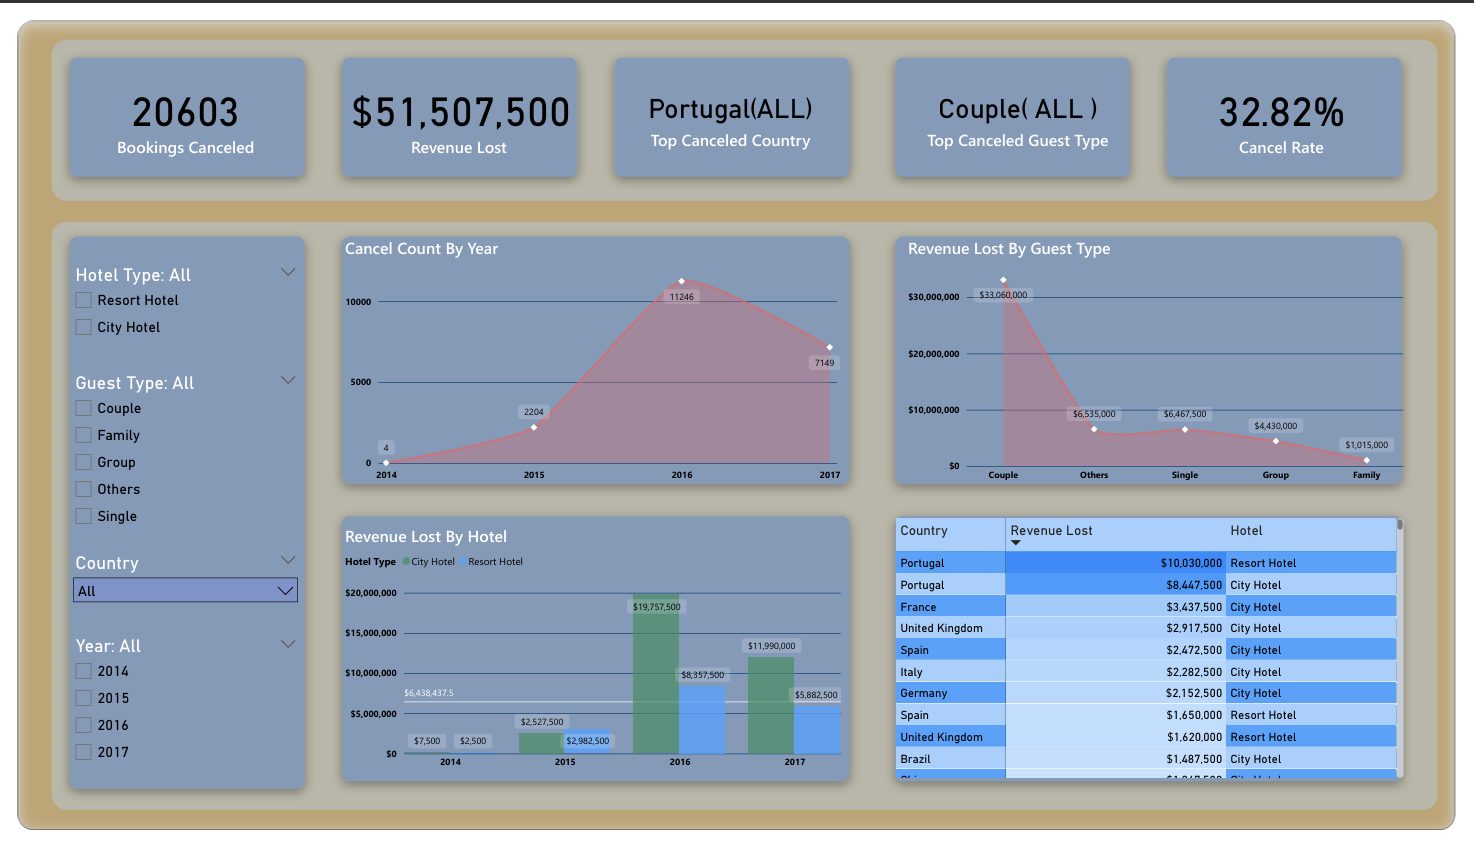

The dashboard page shown, as its layout file describes it:
{"tool":"powerbi","page":{"name":"Page 1","canvas":[1920,1080],"ordinal":0},"visuals":[{"type":"card","fields":{"Values":["public hotel_bookings.cancel_count"]},"box":[64,48,320,160],"z":0},{"type":"slicer","title":"jk","fields":{"Values":["public hotel_bookings.hotel"]},"box":[64,320,320,160],"z":1000},{"type":"slicer","fields":{"Values":["public hotel_bookings.guest_type"]},"box":[64,464,320,224],"z":2000},{"type":"slicer","fields":{"Values":["public hotel_bookings.country"]},"box":[64,704,320,96],"z":3000},{"type":"card","fields":{"Values":["public hotel_bookings.revenue_lost"]},"box":[432,48,320,160],"z":4000},{"type":"slicer","fields":{"Values":["public hotel_bookings.reservation_status_date.Variation.Date Hierarchy.Year"]},"box":[64,816,320,192],"z":5000},{"type":"card","fields":{"Values":["public hotel_bookings.top_1_cancel_guest_type"]},"box":[1184,48,304,160],"z":6000},{"type":"card","fields":{"Values":["public hotel_bookings.kpi"]},"box":[800,48,304,160],"z":7000},{"type":"card","fields":{"Values":["public hotel_bookings.Cancel Rate (%)"]},"box":[1536,48,304,160],"z":8000},{"type":"areaChart","title":"Cancel Count By Year","fields":{"Category":["public hotel_bookings.reservation_status_date.Variation.Date Hierarchy.Year"],"Y":["public hotel_bookings.cancel_count"]},"box":[432,288,672,336],"z":9000},{"type":"clusteredColumnChart","title":"Cancel Count By Year","fields":{"Category":["public hotel_bookings.reservation_status_date.Variation.Date Hierarchy.Year"],"Y":["public hotel_bookings.revenue_lost"],"Series":["public hotel_bookings.hotel"]},"box":[432,672,672,336],"z":10000},{"type":"tableEx","title":" cx","fields":{"Values":["public hotel_bookings.country","public hotel_bookings.revenue_lost","public hotel_bookings.hotel"]},"box":[1168,659,688,356],"z":12000},{"type":"areaChart","title":"Revenue Lost By Guest Type","fields":{"Category":["public hotel_bookings.guest_type"],"Y":["public hotel_bookings.revenue_lost"]},"box":[1184,288,672,336],"z":12001}]}

Visuals, with their boxes in screenshot pixels (x1, y1, x2, y2), scaled from the page's 1920x1080 canvas onto the 1474x847 screenshot:
card - public hotel_bookings.cancel_count: 49,38,295,163
"jk" slicer: 49,251,295,376
slicer - public hotel_bookings.guest_type: 49,364,295,540
slicer - public hotel_bookings.country: 49,552,295,627
card - public hotel_bookings.revenue_lost: 332,38,577,163
slicer - public hotel_bookings.reservation_status_date.Variation.Date Hierarchy.Year: 49,640,295,791
card - public hotel_bookings.top_1_cancel_guest_type: 909,38,1142,163
card - public hotel_bookings.kpi: 614,38,848,163
card - public hotel_bookings.Cancel Rate (%): 1179,38,1413,163
"Cancel Count By Year" areaChart: 332,226,848,489
"Cancel Count By Year" clusteredColumnChart: 332,527,848,791
" cx" tableEx: 897,517,1425,796
"Revenue Lost By Guest Type" areaChart: 909,226,1425,489
